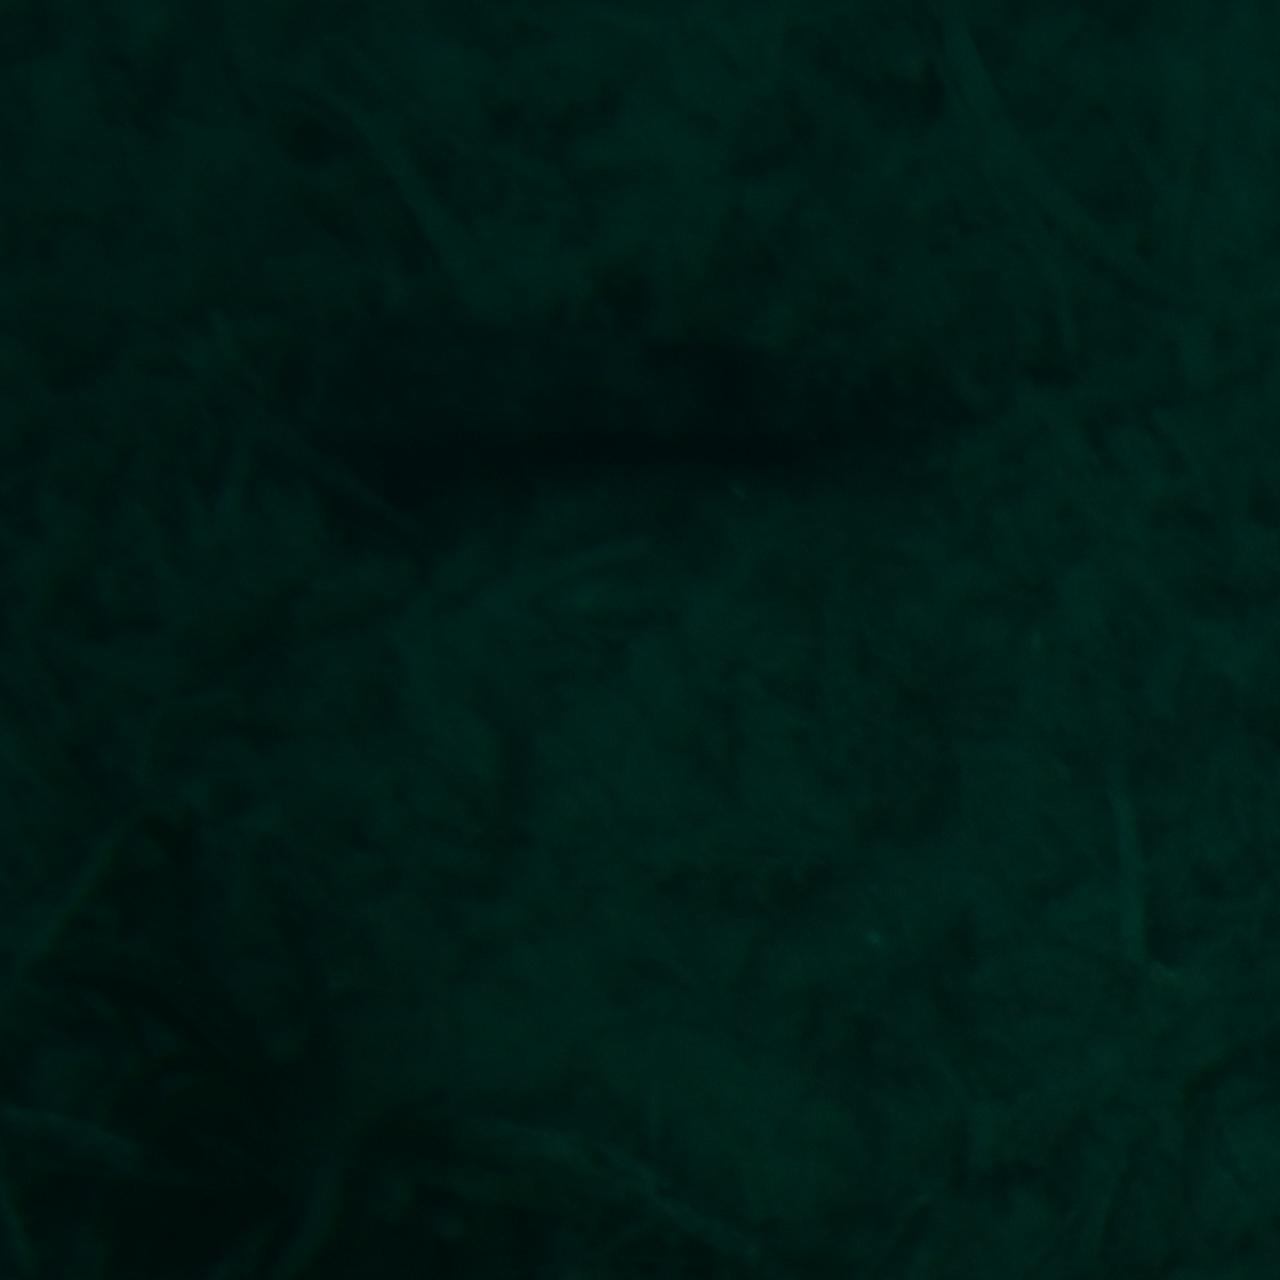Holothuria tubulosa: (281, 290, 999, 519)
